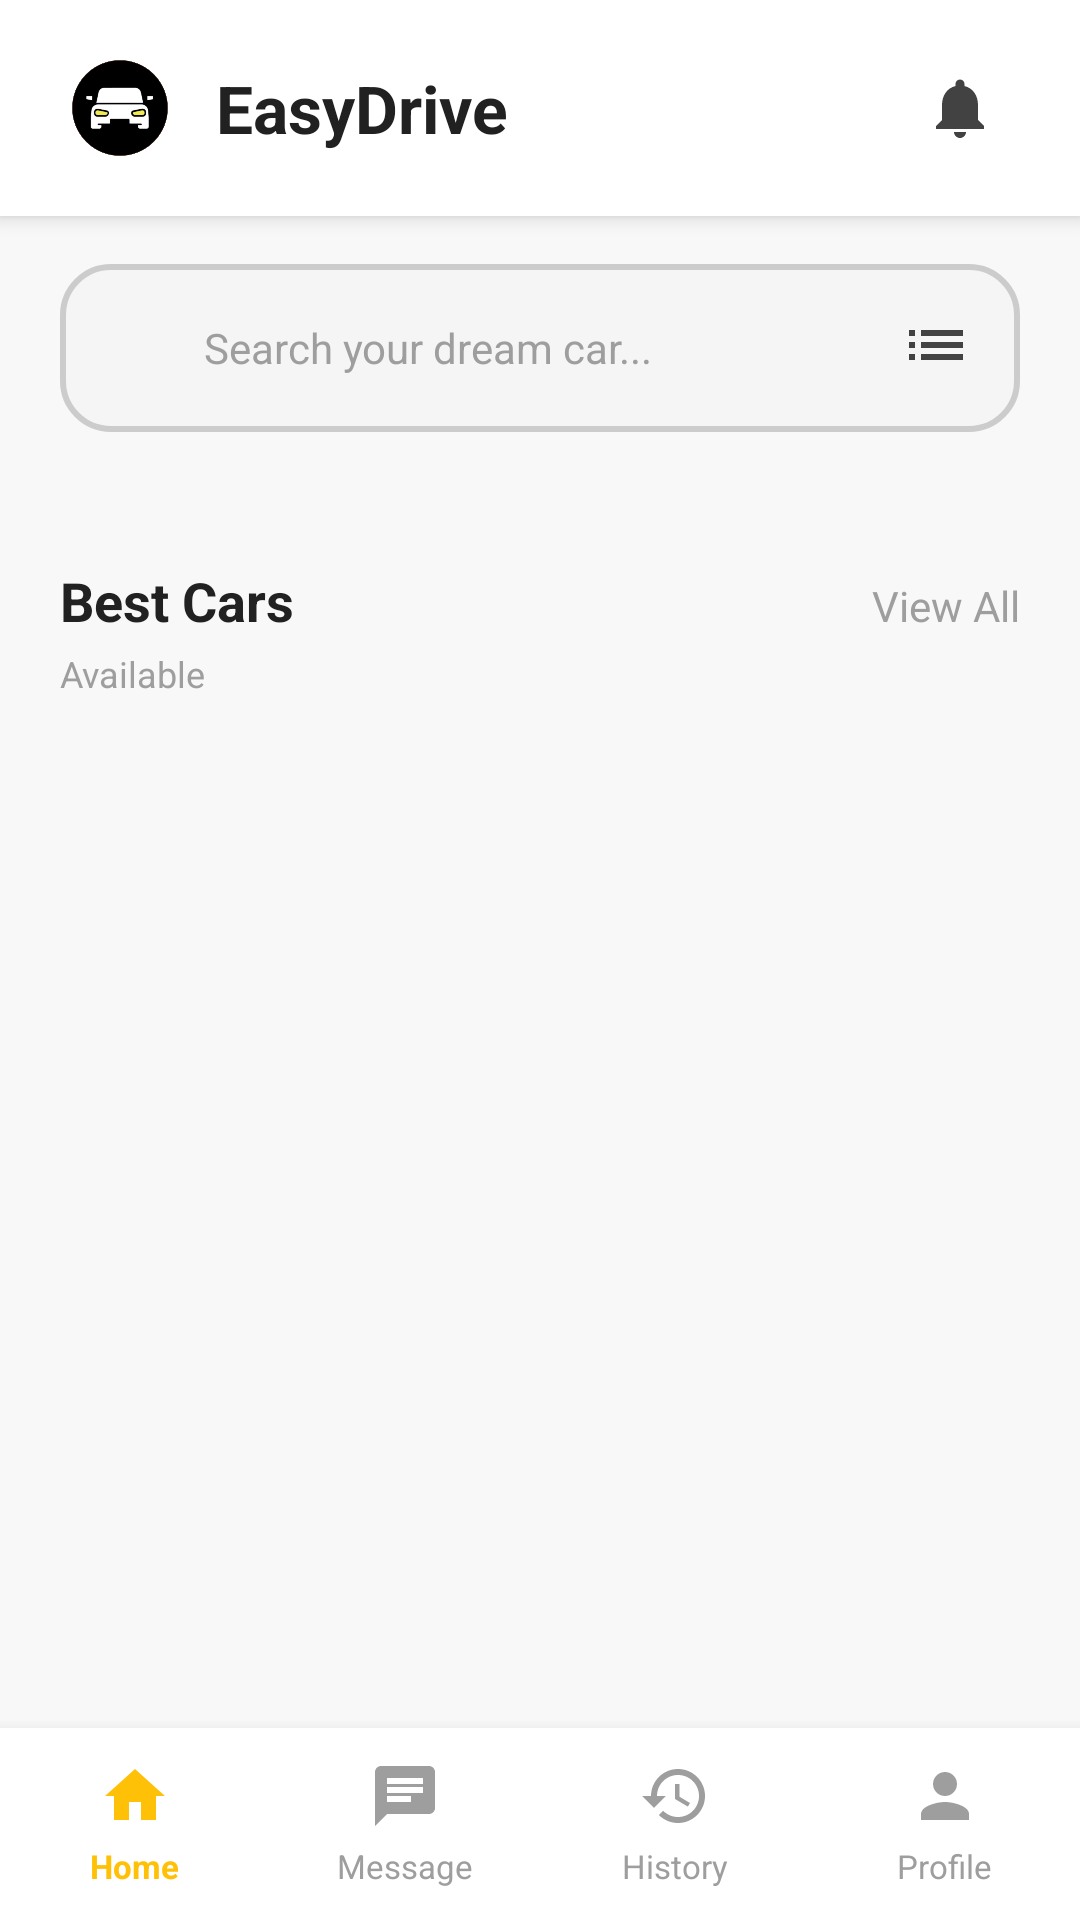

Locate icon controls on the screen. Image size 1080w x 1920h, boxes as box(x1, y1, x2, y2).
Notifications: box(936, 79, 984, 138)
